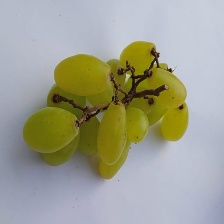grapes: (13, 6, 189, 208)
